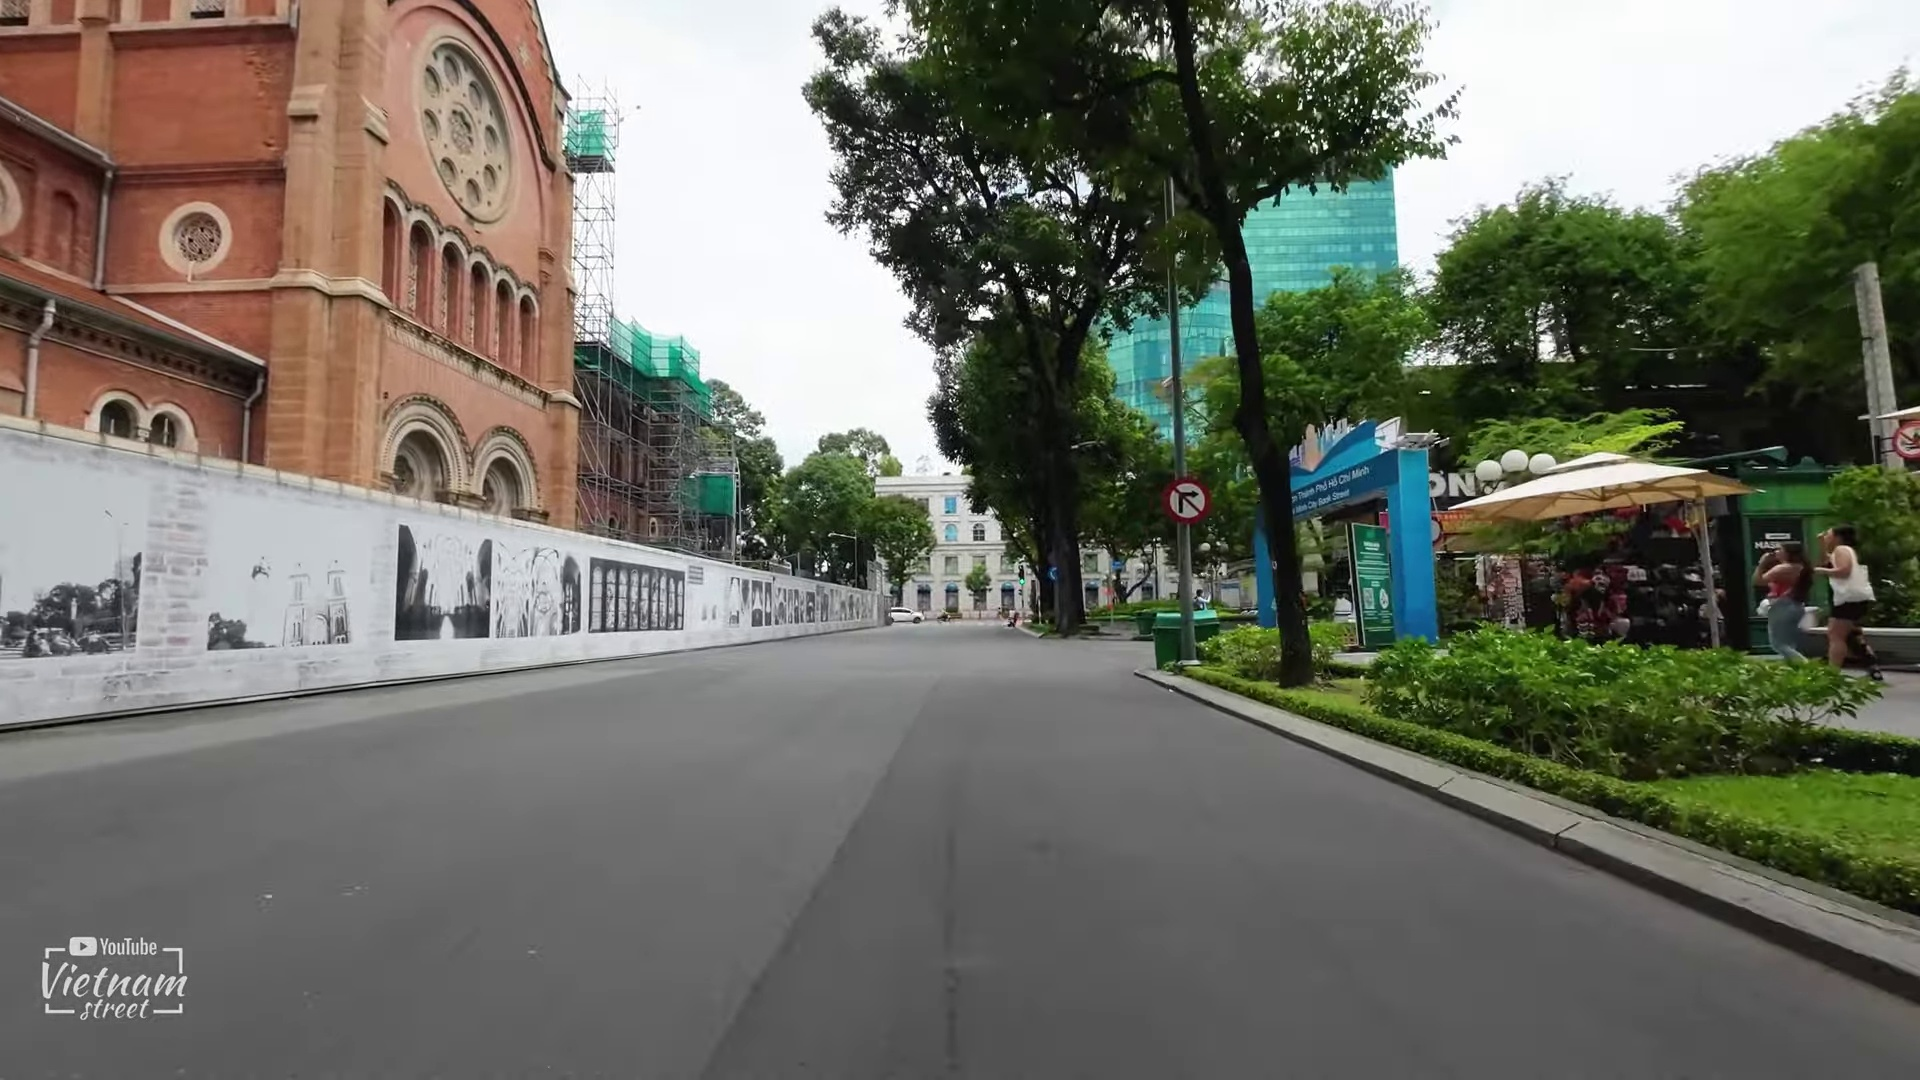cam_re_phai: (1164, 476, 1209, 522)
